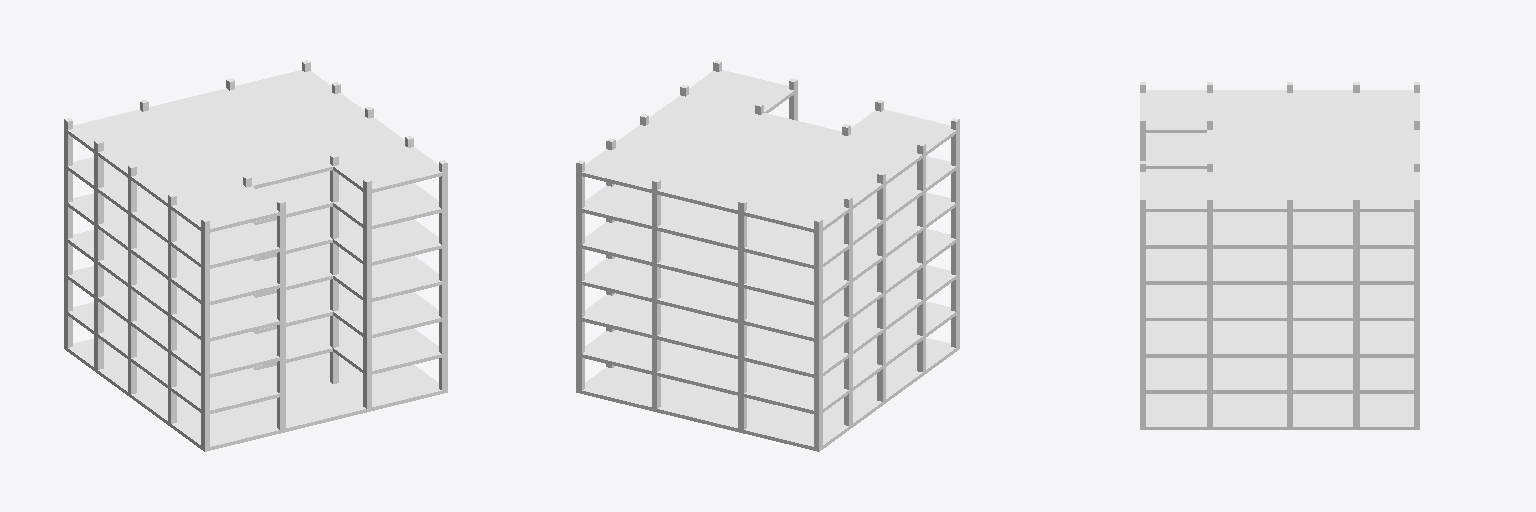
Rendered from Bilding.obj.
The picture shows the model from 3 angles: view 1: azimuth 30°, elevation 25°; view 2: azimuth 150°, elevation 25°; view 3: azimuth 270°, elevation 25°; orthographic projection.
Parts seen in each view (by area): view 1: object 1; view 2: object 1; view 3: object 1.
Part boxes in pixels (bbox=[...]): object 1: bbox=[64, 60, 447, 451]; object 1: bbox=[576, 60, 959, 451]; object 1: bbox=[1140, 82, 1419, 429].
Bounding box in the file's own units: 21 × 19 × 21.